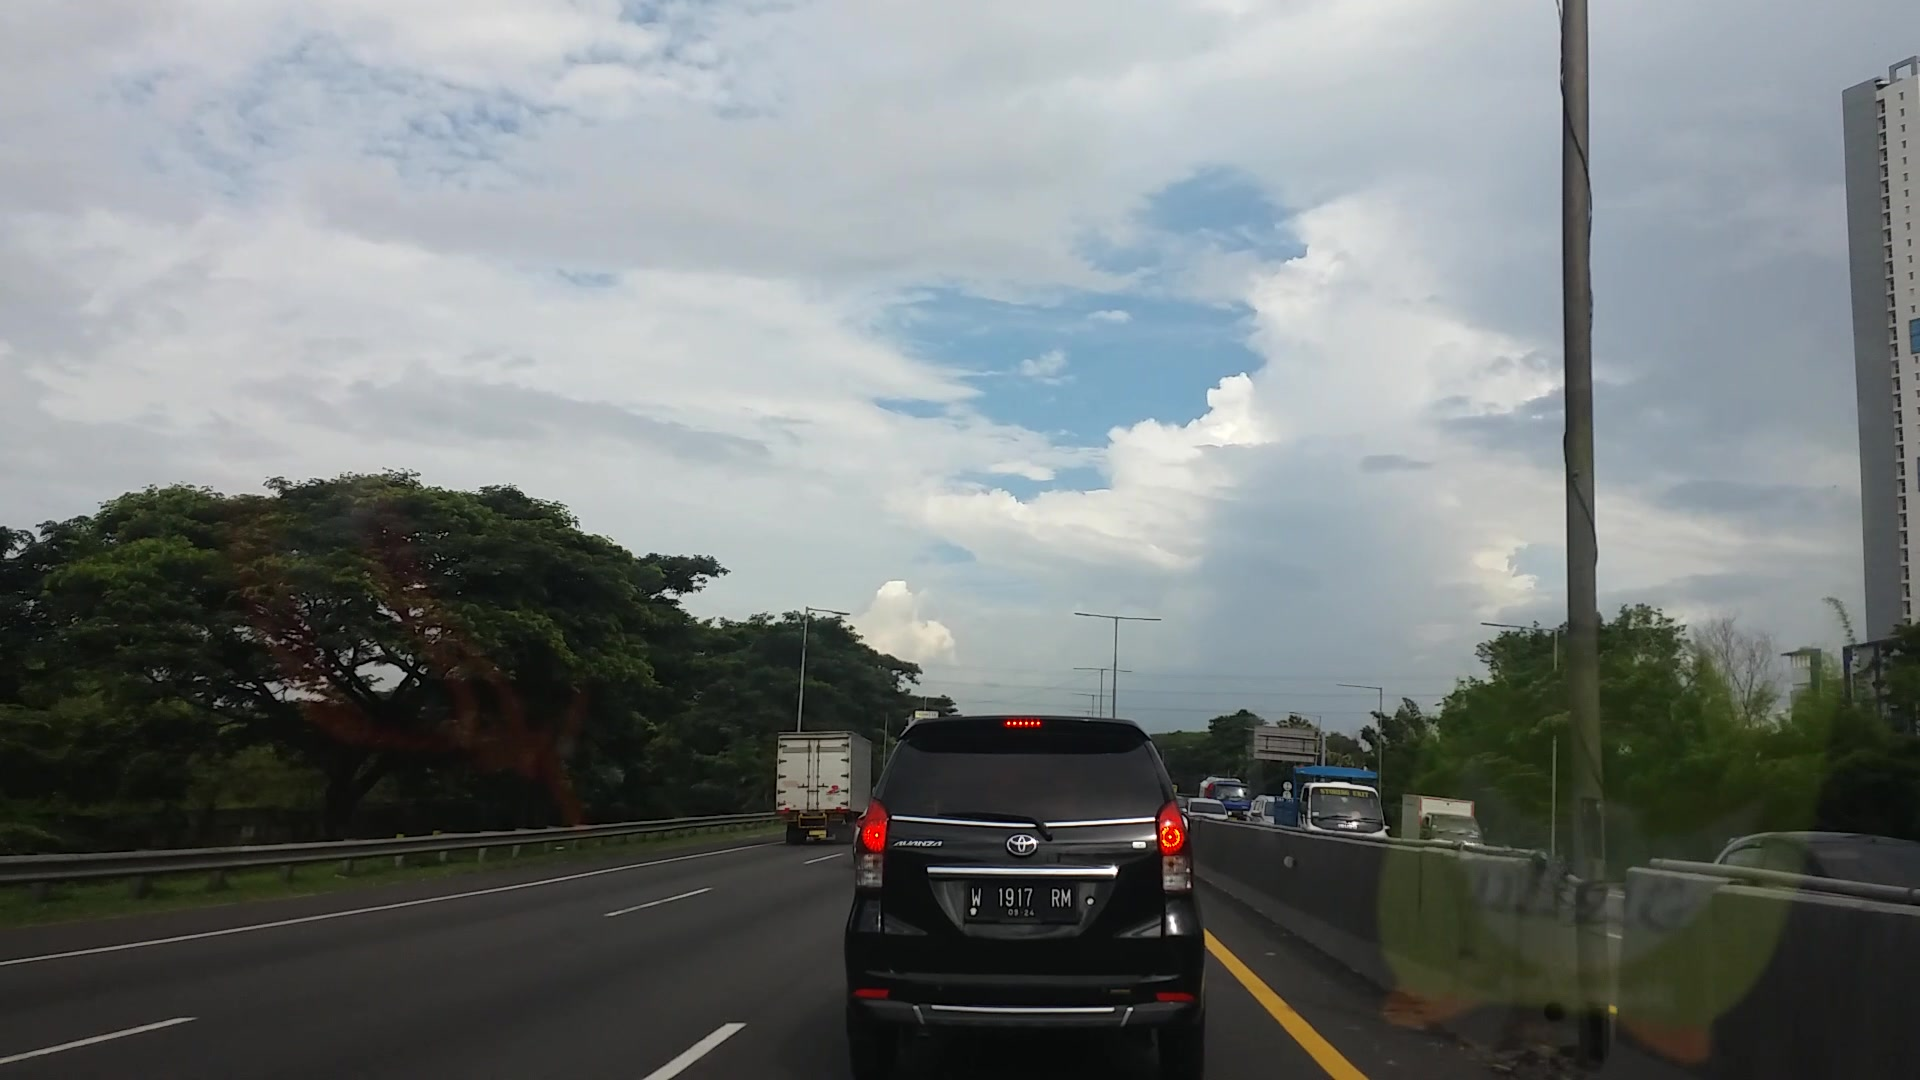plate_positive: (964, 880, 1079, 924)
